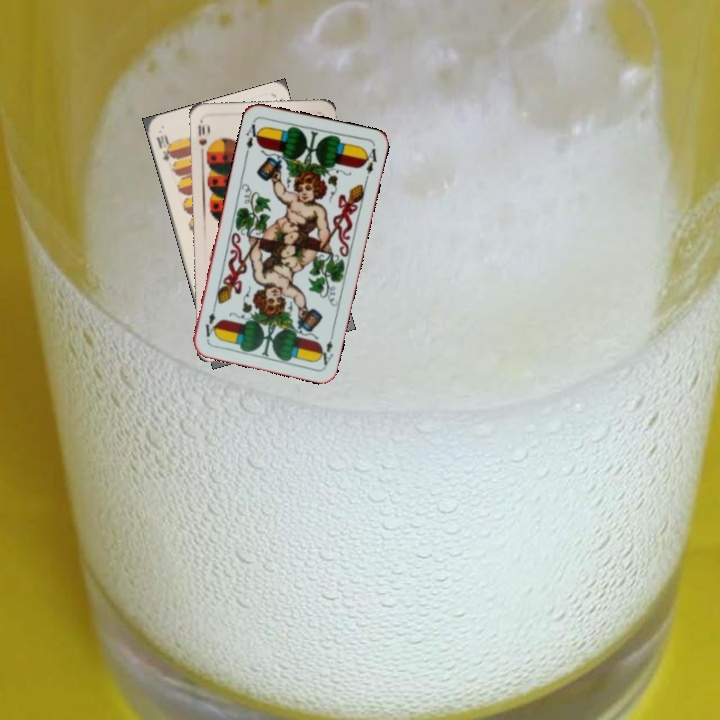E10: (152, 131, 177, 163)
EA: (315, 328, 336, 368), (242, 120, 264, 151)
S10: (194, 117, 212, 157)
